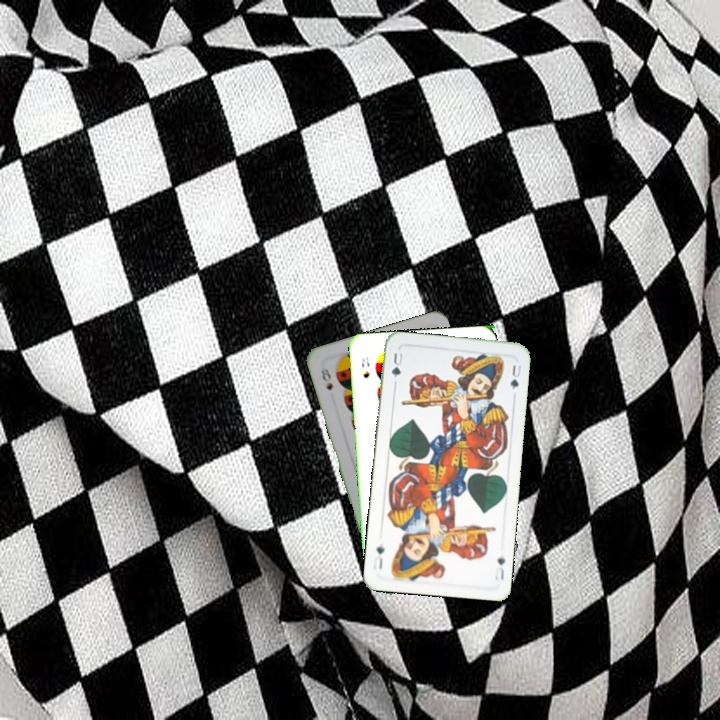GU: (388, 349, 405, 380), (491, 553, 507, 583)
S8: (317, 361, 335, 393), (357, 353, 372, 381)
